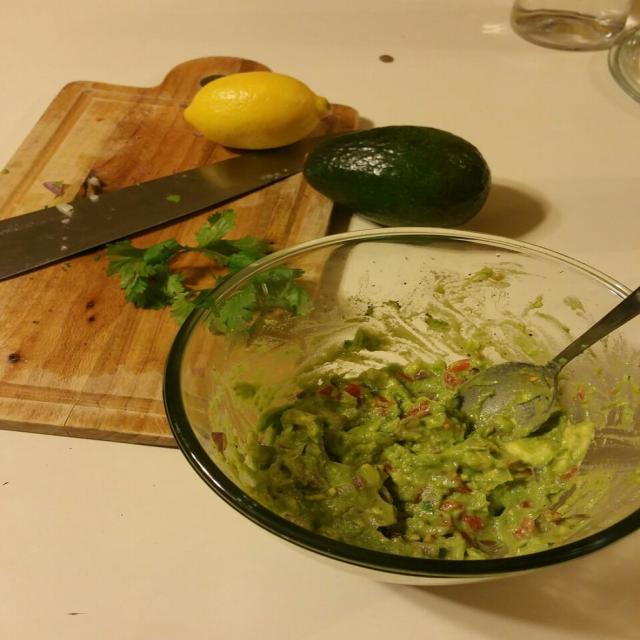avocado: (218, 329, 593, 559), (303, 125, 490, 226)
lemon: (183, 72, 330, 149)
